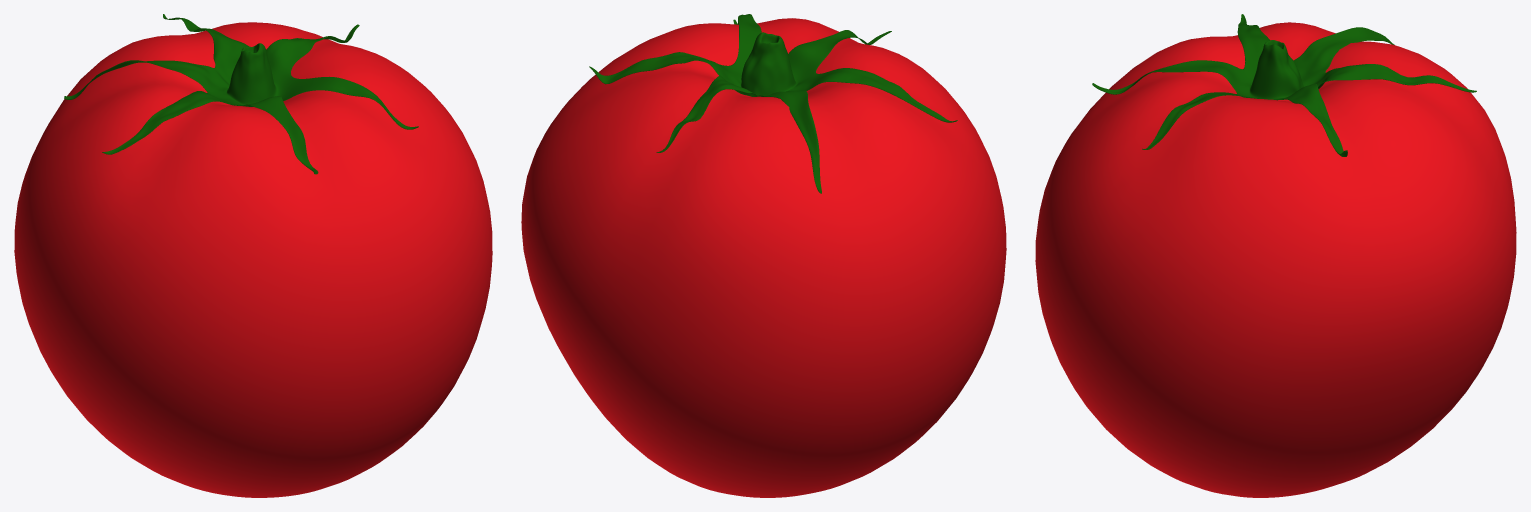
Rendered from Tomato Prefab.fbx.
The picture shows the model from 3 angles, left to right: view 1: azimuth 30°, elevation 25°; view 2: azimuth 150°, elevation 25°; view 3: azimuth 270°, elevation 25°; orthographic projection. The views are drawn at different scales.
Visible parts, largest first — view 1: Tomato, Green; view 2: Tomato, Green; view 3: Tomato, Green.
Part boxes in pixels (x1,y1,x2,y2): Tomato: (14,22,492,497); Green: (64,14,418,174); Tomato: (521,18,1006,497); Green: (589,14,957,193); Tomato: (1035,22,1516,497); Green: (1092,14,1476,156).
Size of the model in its own units: 197 by 196 by 197.
